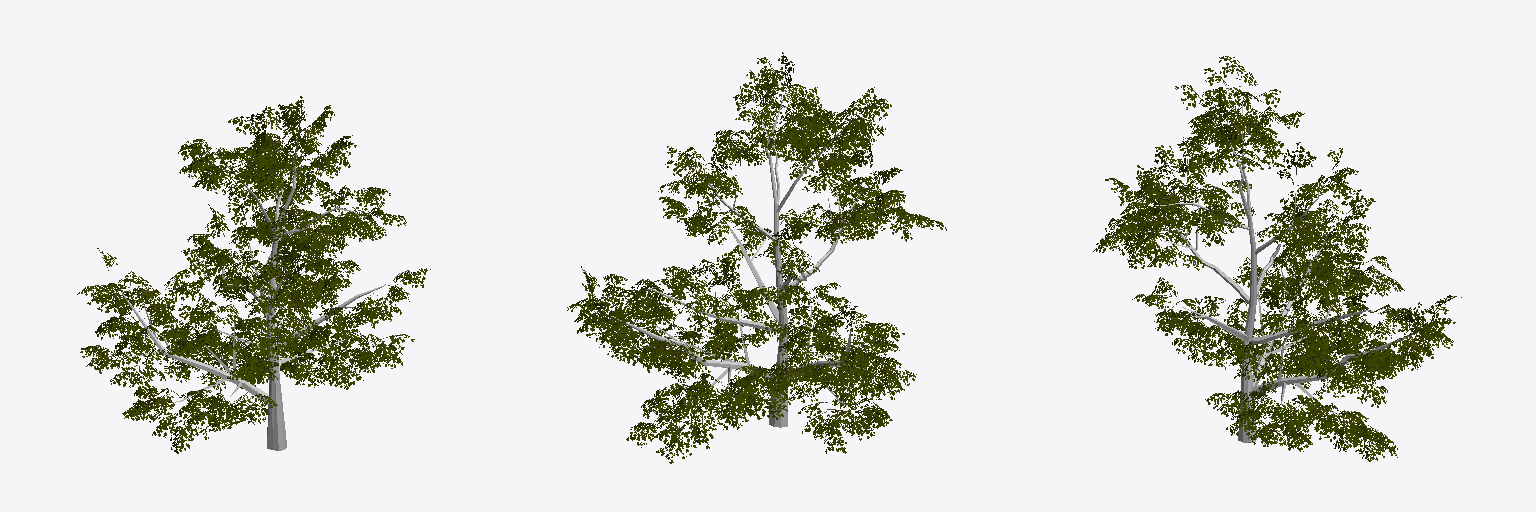
3 views of the same model, side by side, from view 1: azimuth 30°, elevation 25°; view 2: azimuth 150°, elevation 25°; view 3: azimuth 270°, elevation 25° (orthographic).
Parts seen in each view (by area): view 1: Acer_large_1_LOD2_Cluster_Mat_0, Acer_large_1_LOD2_Bark_Mat_0; view 2: Acer_large_1_LOD2_Cluster_Mat_0, Acer_large_1_LOD2_Bark_Mat_0; view 3: Acer_large_1_LOD2_Cluster_Mat_0, Acer_large_1_LOD2_Bark_Mat_0.
Part boxes in pixels (left/top/right/bottom): Acer_large_1_LOD2_Cluster_Mat_0: left=77, top=96, right=430, bottom=453; Acer_large_1_LOD2_Bark_Mat_0: left=121, top=139, right=384, bottom=450; Acer_large_1_LOD2_Cluster_Mat_0: left=567, top=52, right=946, bottom=463; Acer_large_1_LOD2_Bark_Mat_0: left=607, top=97, right=885, bottom=427; Acer_large_1_LOD2_Cluster_Mat_0: left=1093, top=56, right=1461, bottom=461; Acer_large_1_LOD2_Bark_Mat_0: left=1150, top=104, right=1413, bottom=442.
Size of the model in its own units: 18.69 by 20.78 by 19.56.
Materials: 2 (1 with a texture image).